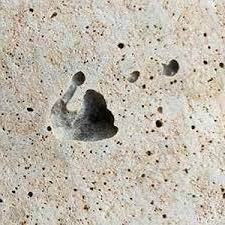Spalling: (1, 1, 225, 225), (49, 70, 119, 143)
